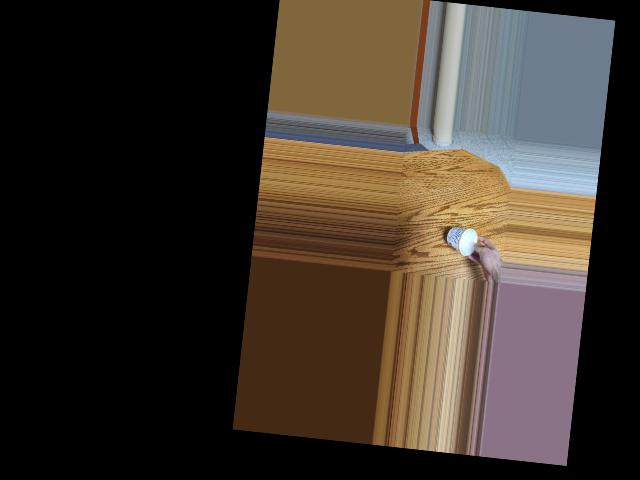cotage: (443, 226, 481, 262)
